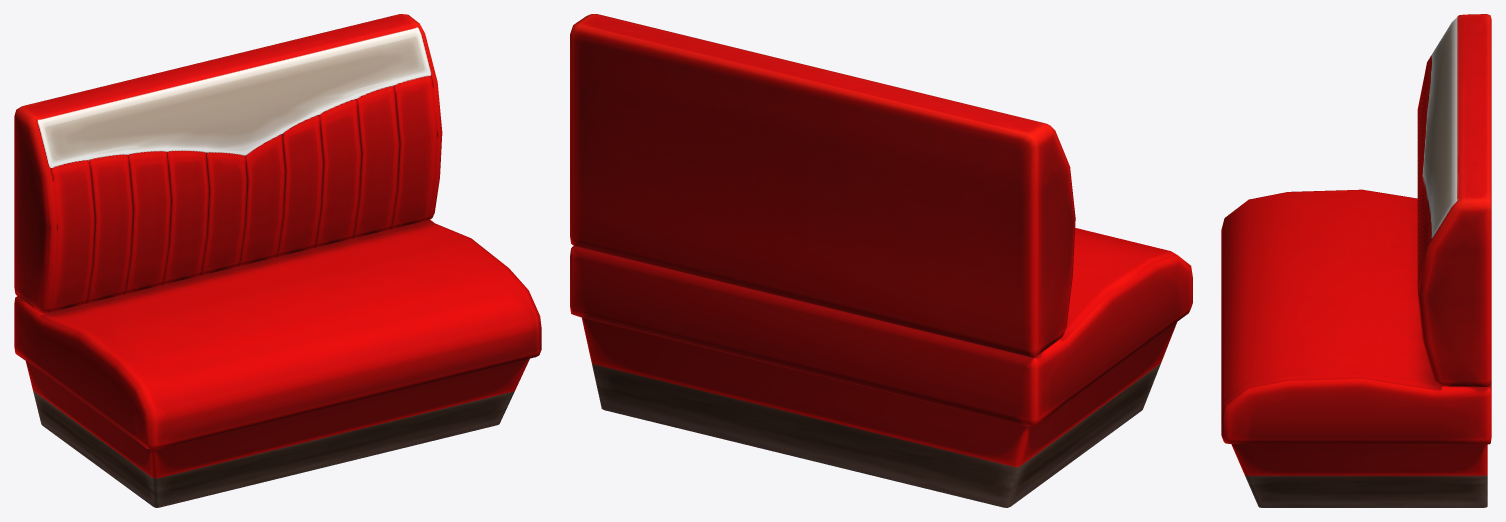
The model's file is CafeSofa01.FBX.
3 renders of one model, left to right at view 1: azimuth 30°, elevation 25°; view 2: azimuth 150°, elevation 25°; view 3: azimuth 270°, elevation 25°, orthographic. The views are drawn at different scales.
Visible parts, largest first — view 1: CafeSofa01; view 2: CafeSofa01; view 3: CafeSofa01.
Part boxes in pixels (x1,y1,x2,y2): CafeSofa01: (14, 14, 541, 507); CafeSofa01: (570, 14, 1192, 507); CafeSofa01: (1221, 14, 1491, 507).
Size of what is drawn, in the model's own units: 1.86 by 1.44 by 1.11.
